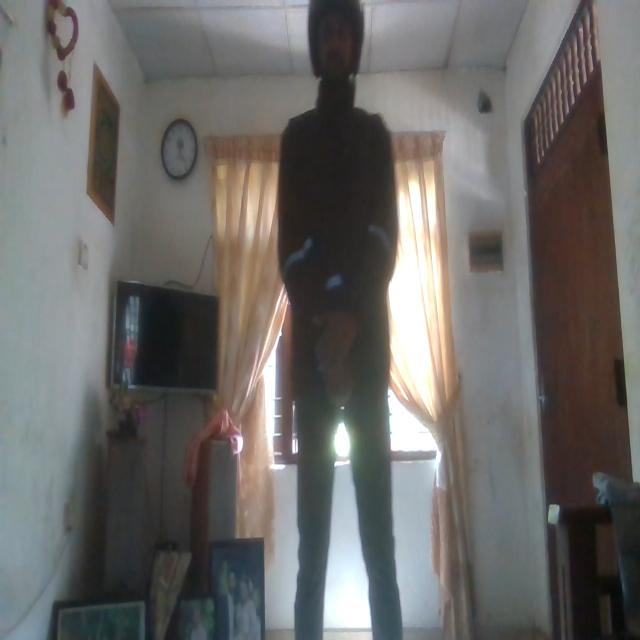Helmet_Wearer: (301, 0, 364, 97)
Jacket_Wearer: (279, 107, 397, 405)
Person: (277, 0, 415, 640)
